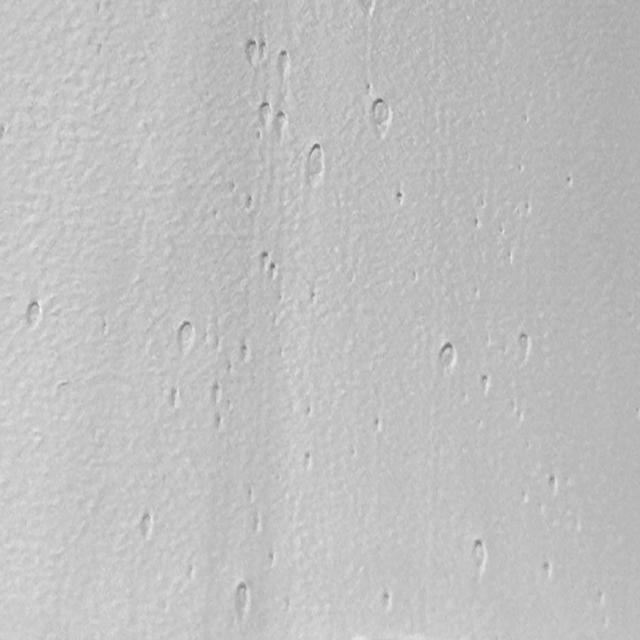pin holes: (230, 582, 252, 622), (20, 299, 46, 332), (370, 98, 394, 132), (305, 146, 327, 183), (468, 537, 489, 573), (436, 342, 458, 374), (136, 510, 157, 542), (176, 320, 197, 351), (515, 330, 535, 361), (242, 37, 262, 66), (256, 101, 273, 127), (477, 373, 494, 398), (277, 52, 293, 78), (545, 473, 563, 495), (239, 341, 255, 364), (166, 388, 182, 411), (273, 112, 288, 136), (540, 561, 556, 583), (360, 0, 378, 19), (378, 589, 394, 610), (0, 121, 13, 145), (259, 251, 274, 271), (258, 41, 271, 62), (212, 383, 224, 405), (214, 413, 227, 432), (252, 516, 264, 536), (395, 191, 408, 209), (303, 450, 315, 469), (266, 549, 278, 568), (521, 200, 534, 217), (371, 415, 384, 431), (472, 217, 485, 233), (309, 287, 318, 310), (244, 193, 256, 210), (268, 262, 279, 280), (520, 112, 532, 128), (303, 404, 315, 420), (212, 205, 223, 222), (364, 82, 376, 96), (226, 362, 237, 377), (477, 196, 488, 210), (566, 174, 576, 188), (228, 182, 238, 196)
